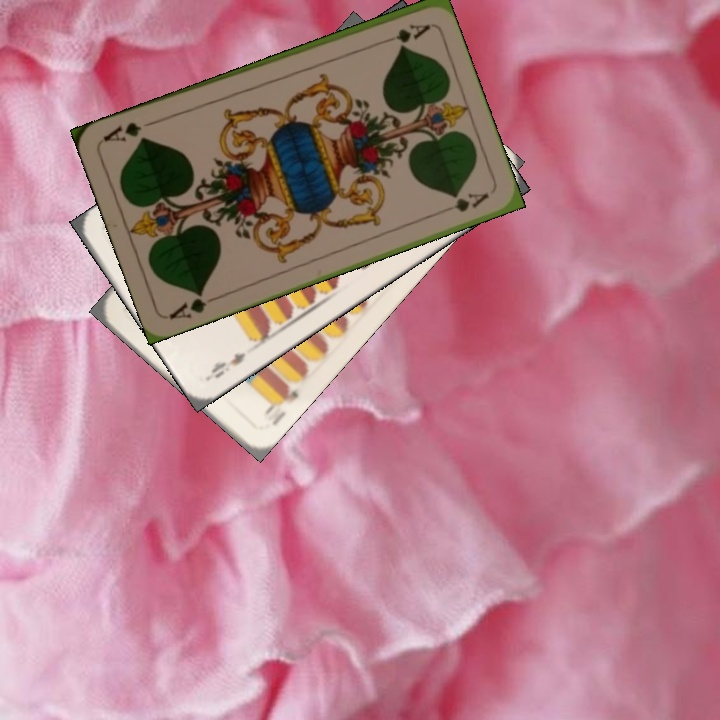E10: (260, 380, 301, 418)
E9: (204, 348, 248, 382)
GA: (165, 287, 222, 322), (374, 20, 432, 47)
